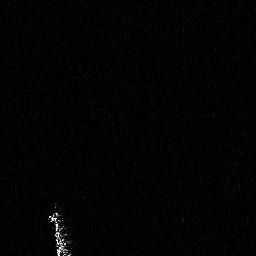ship: (45, 199, 77, 256)
